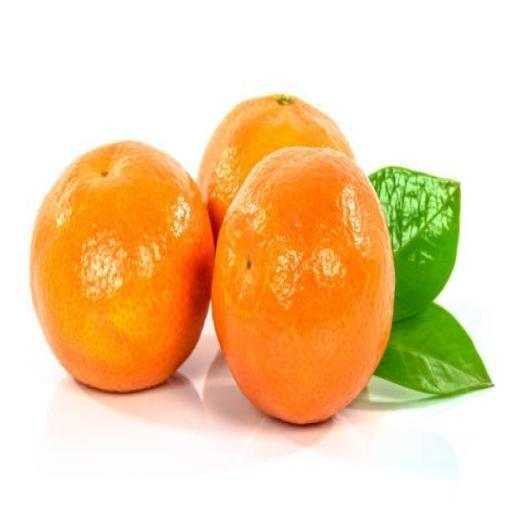orange: (212, 147, 394, 424), (31, 142, 214, 391), (199, 95, 353, 239)
